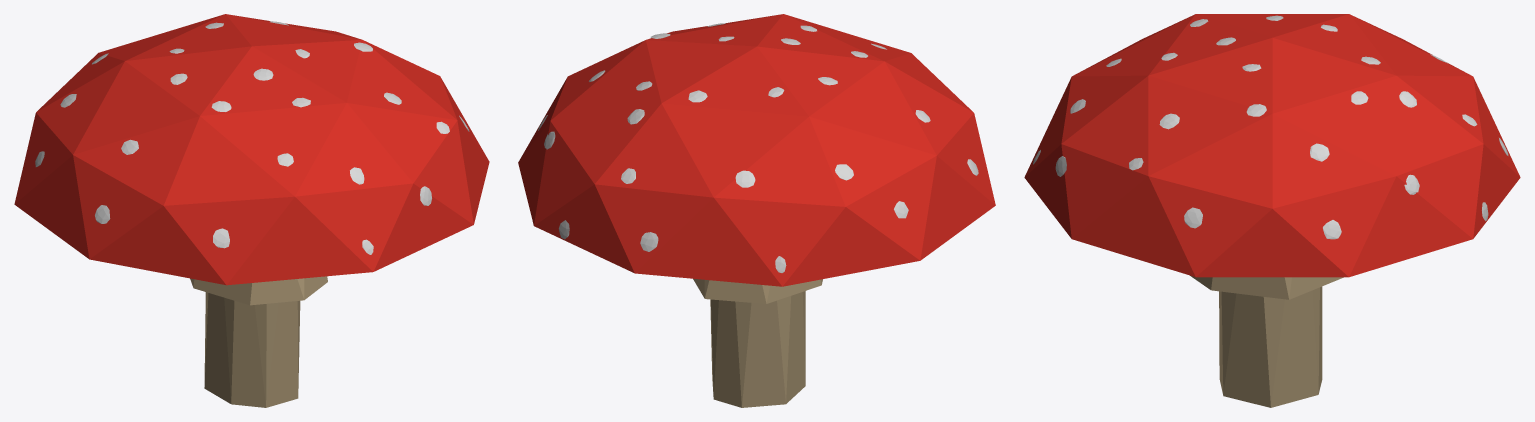
Rendered from vliegenzwam_1.fbx.
3 views of the same model, side by side, from view 1: azimuth 30°, elevation 25°; view 2: azimuth 150°, elevation 25°; view 3: azimuth 270°, elevation 25° (orthographic). The views are drawn at different scales.
Parts seen in each view (by area): view 1: Icosphere, Cylinder, Cylinder.001; view 2: Icosphere, Cylinder, Cylinder.001; view 3: Icosphere, Cylinder, Cylinder.001.
Part boxes in pixels (x1,y1,x2,y2): Icosphere: (14, 14, 489, 285); Cylinder: (204, 292, 300, 407); Cylinder.001: (190, 276, 327, 305); Icosphere: (518, 14, 995, 286); Cylinder: (710, 291, 805, 407); Cylinder.001: (693, 278, 822, 303); Icosphere: (1024, 14, 1520, 277); Cylinder: (1219, 286, 1322, 407); Cylinder.001: (1190, 275, 1343, 299).
Bounding box in the file's own units: 190 × 155 × 200.
